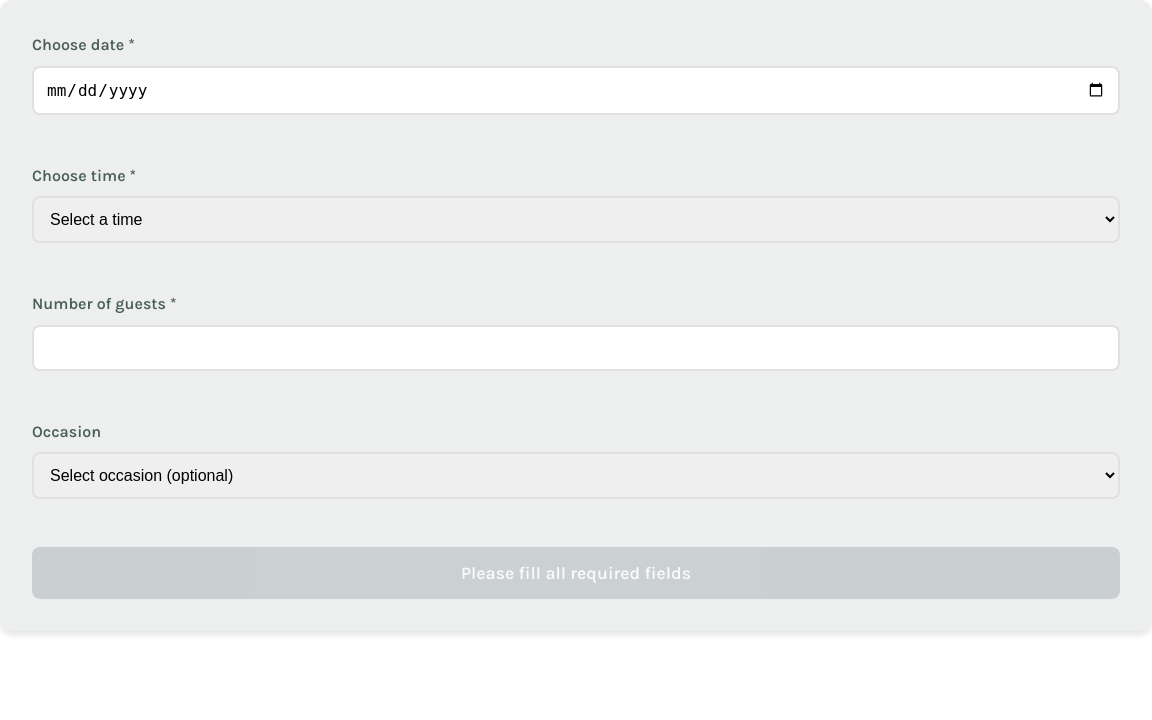
Time validation fails with empty time
Leave empty
Select "Select a time" in the dropdown labelled "Choose time *" at {"x": 576, "y": 220}, box [32, 196, 1120, 243]
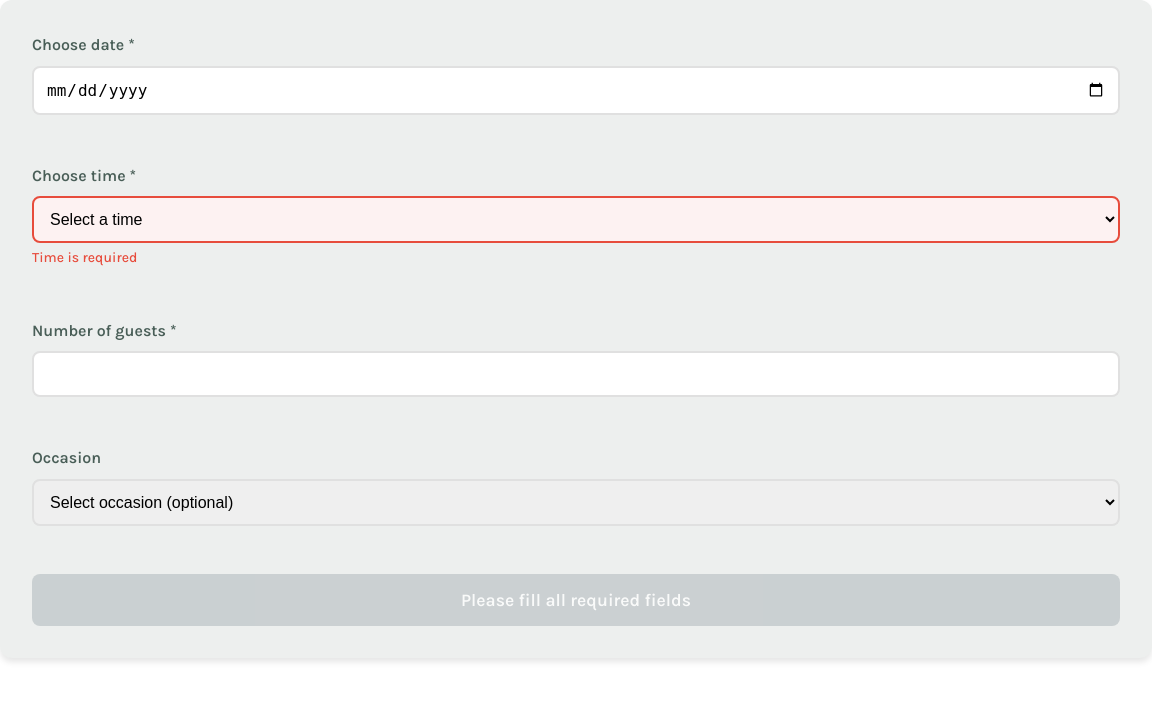
Result: the text "Time is required" is shown at [32, 249, 137, 266]
